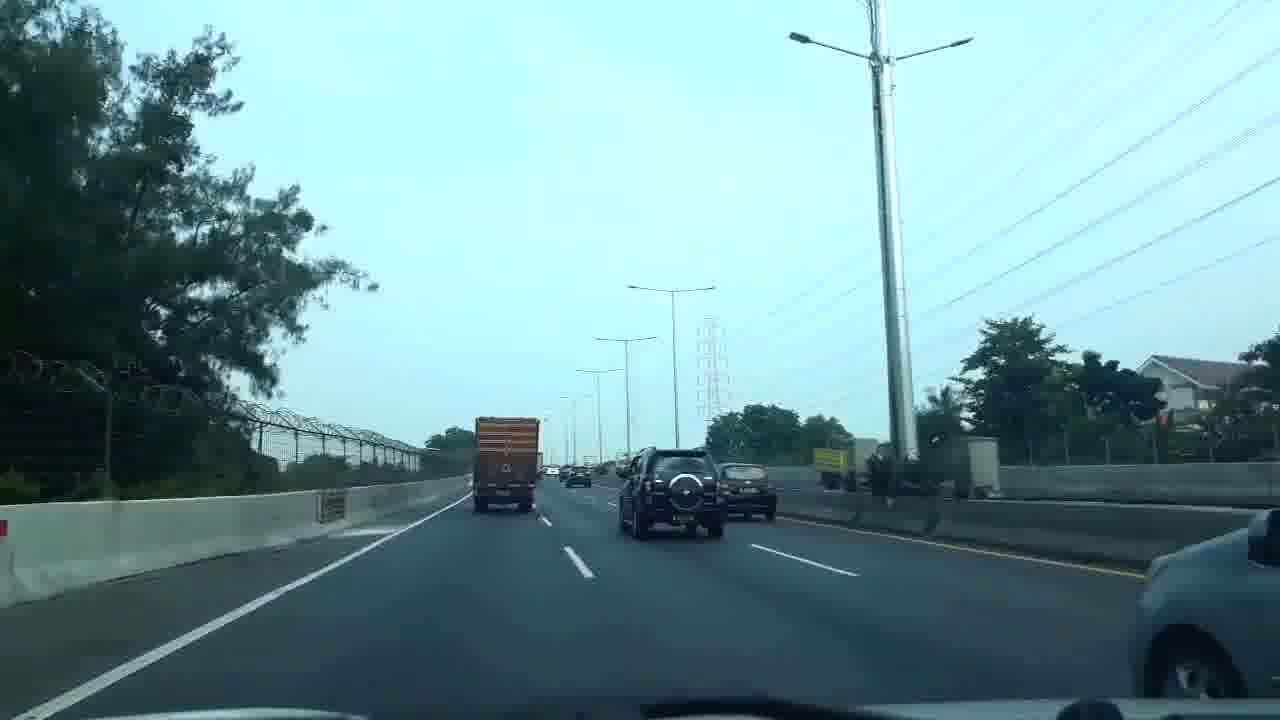plate_positive: (672, 514, 696, 523), (738, 487, 758, 494), (495, 488, 512, 496)
